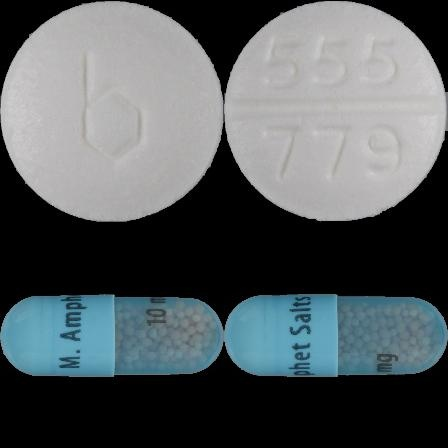0555-0779: (0, 0, 224, 224)
